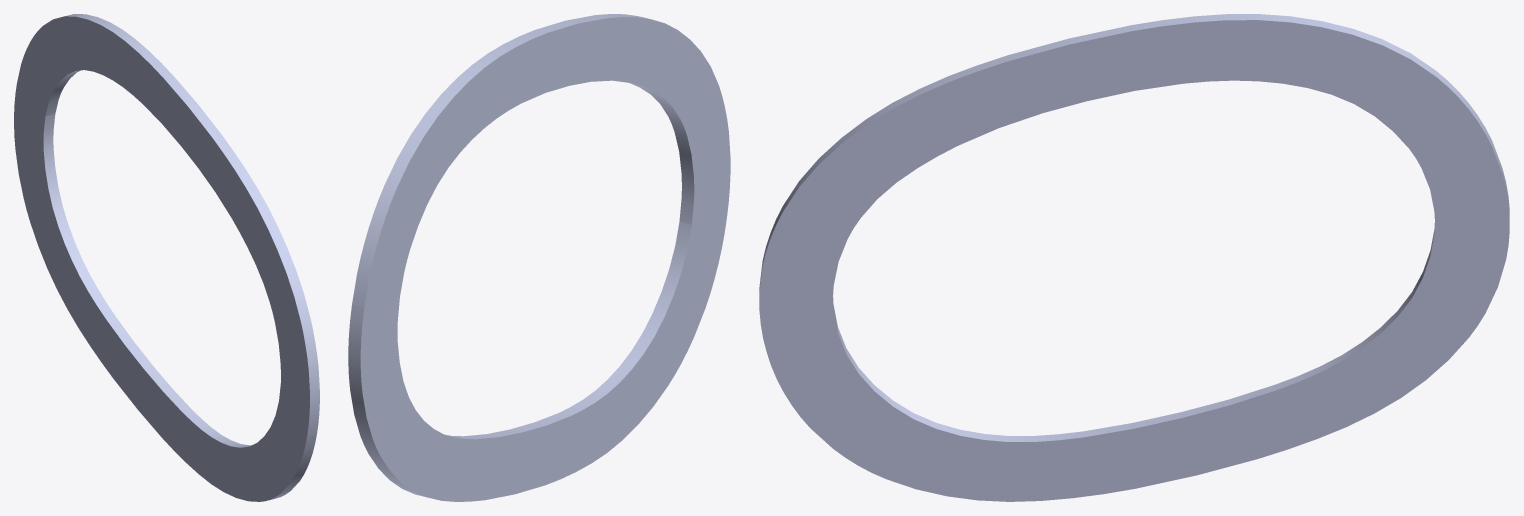
The model's file is body104_visual.obj.
3 views of the same model, side by side, from view 1: azimuth 30°, elevation 25°; view 2: azimuth 150°, elevation 25°; view 3: azimuth 270°, elevation 25° (orthographic). The views are drawn at different scales.
Parts seen in each view (by area): view 1: Body104; view 2: Body104; view 3: Body104.
Boxes of the visible parts, x1,y1,x2,y2 form: Body104: [14, 14, 319, 501]; Body104: [348, 14, 730, 501]; Body104: [759, 14, 1509, 501].
Bounding box in the file's own units: 0.000999 × 0.0367 × 0.0518.
